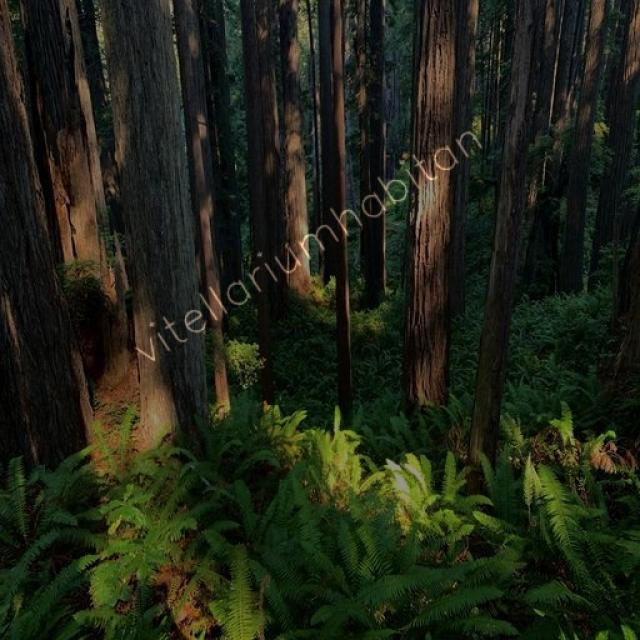watermark: (133, 110, 485, 375)
